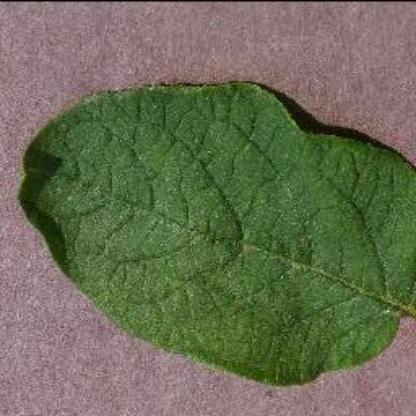Healthy-plant: (21, 77, 416, 389)
